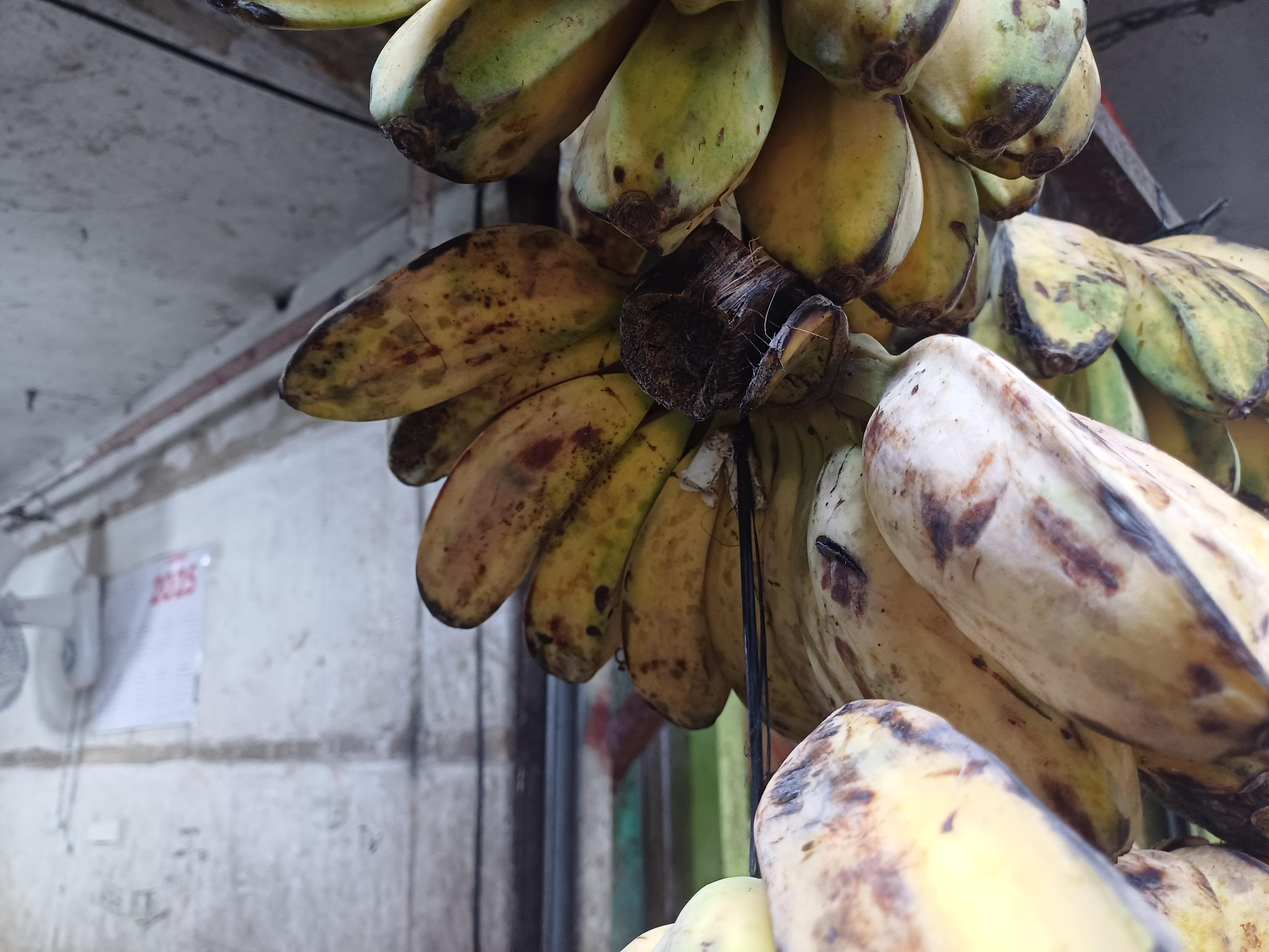ripe: (754, 333, 1269, 867), (283, 224, 746, 727), (611, 701, 1269, 952)
underripe: (213, 0, 1100, 330), (970, 213, 1269, 511)
